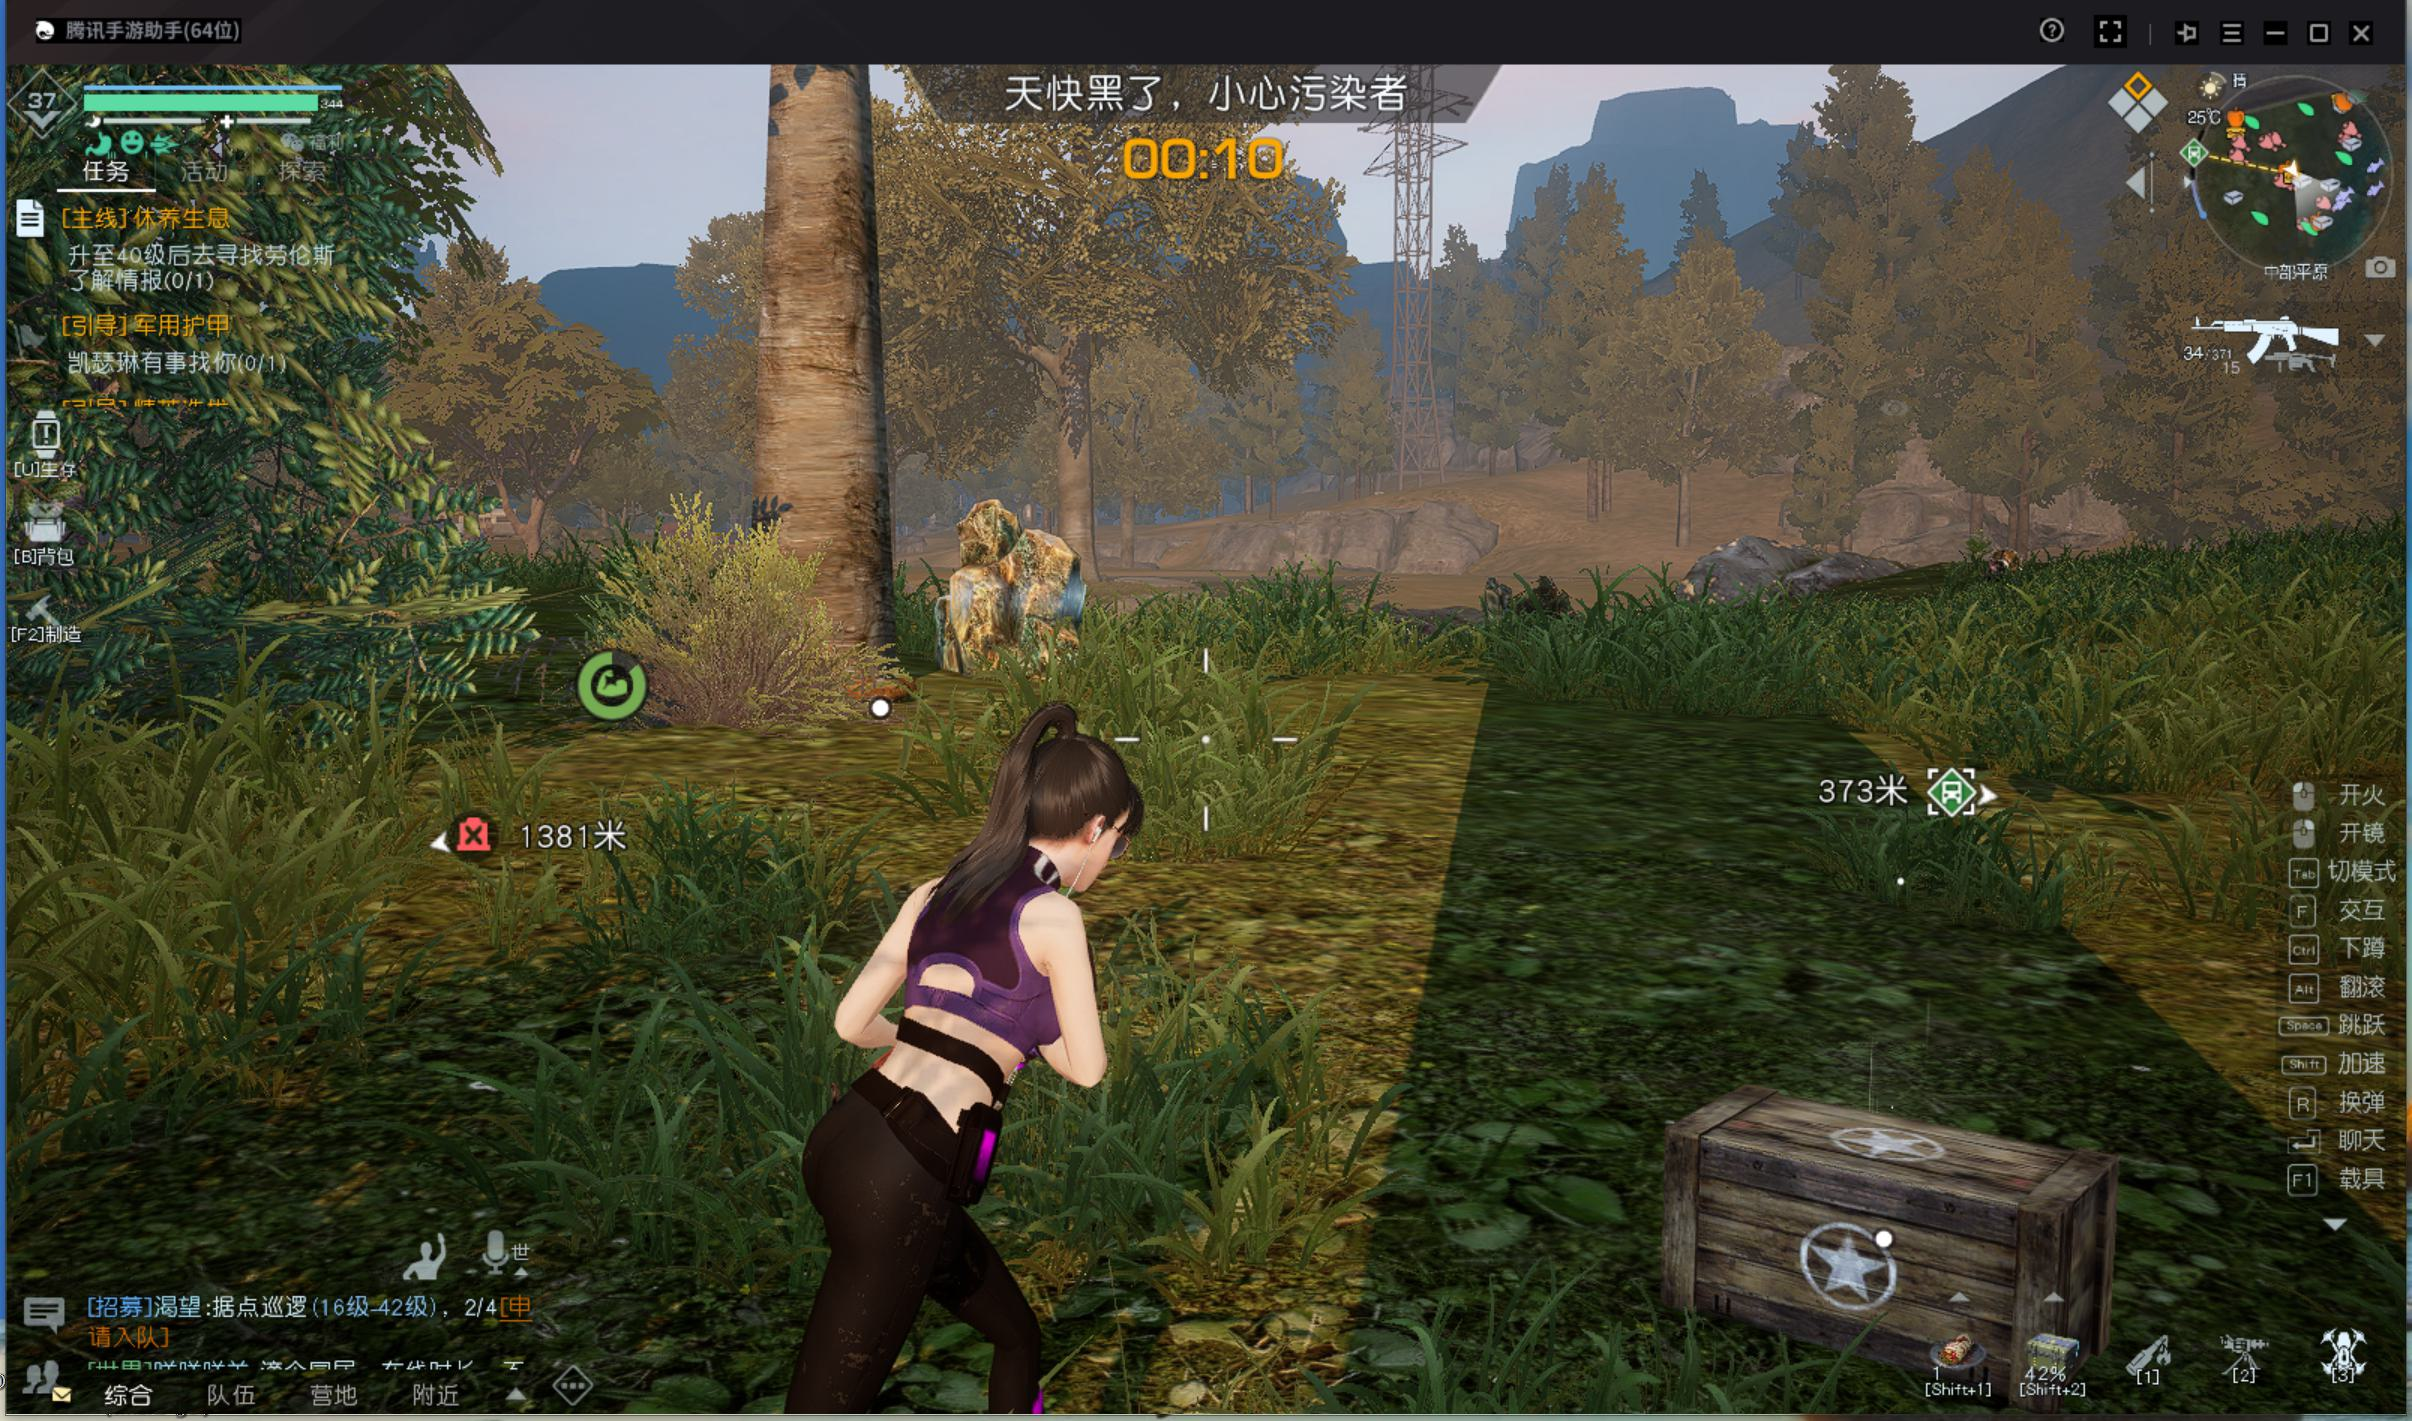stone: (915, 492, 1093, 661)
tree: (726, 135, 891, 689)
